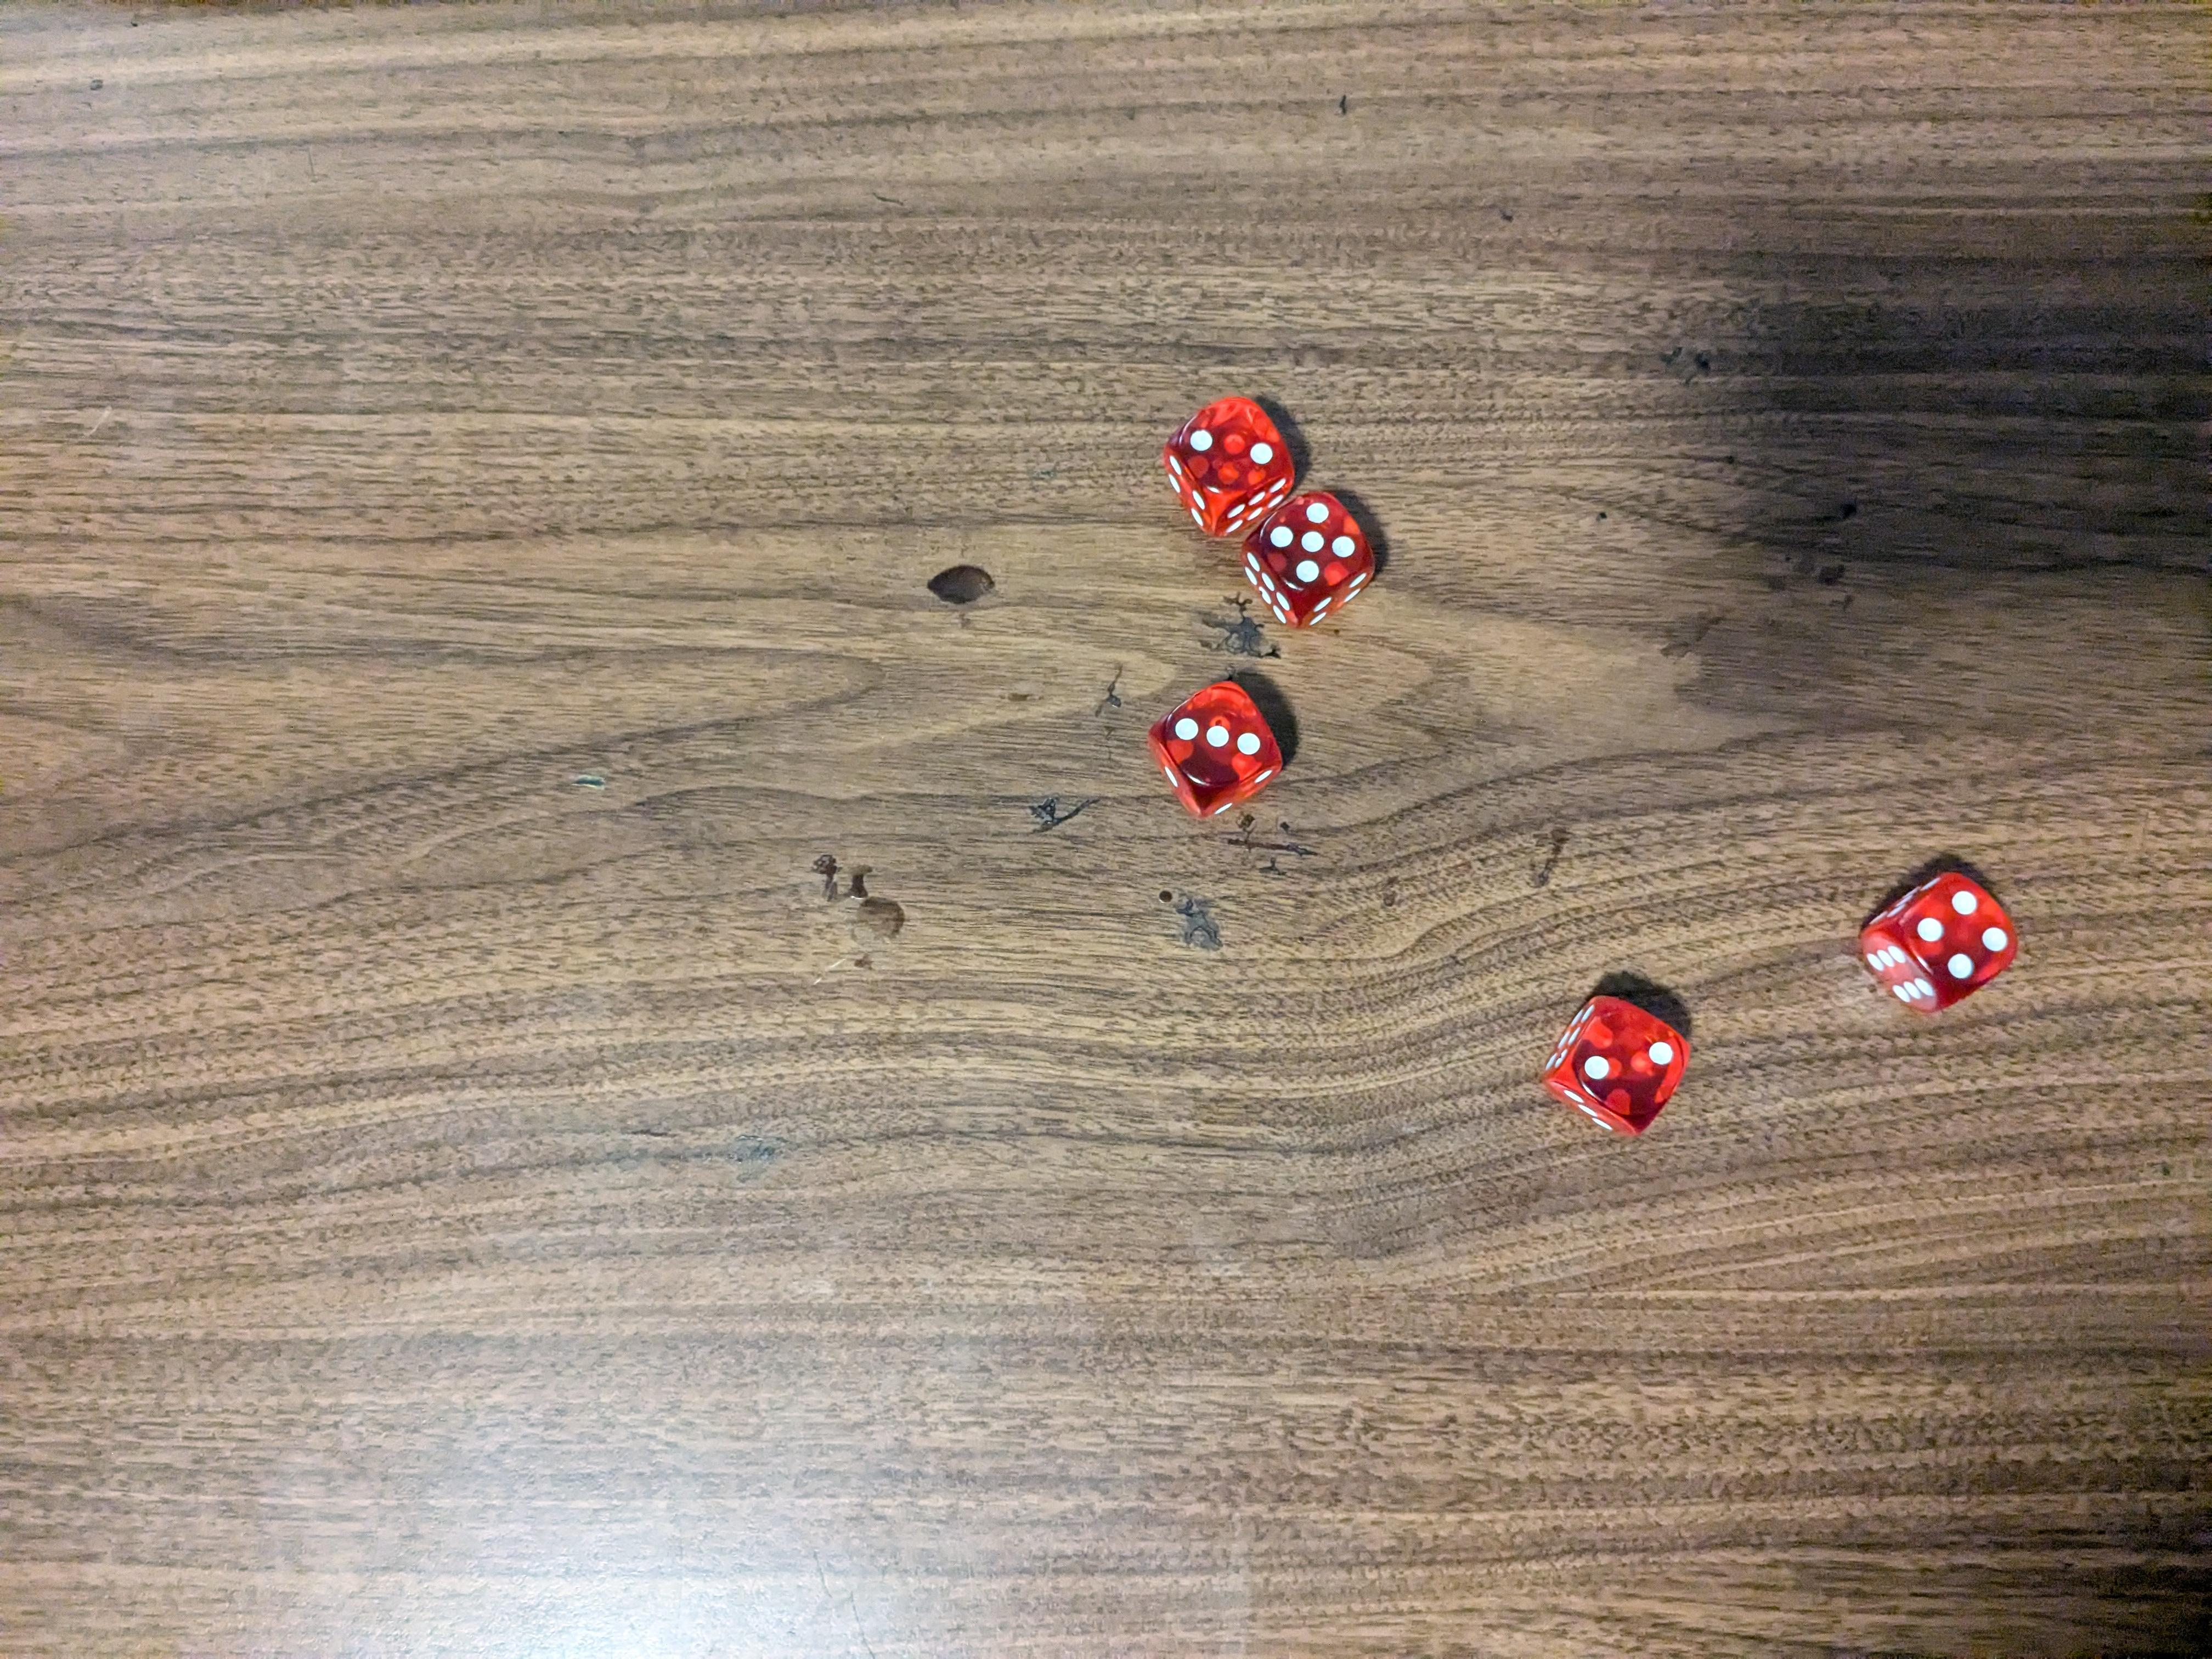five: (1244, 484, 1383, 634)
four: (1862, 866, 2027, 1014)
three: (1150, 674, 1287, 819)
two: (1545, 990, 1689, 1138), (1160, 390, 1296, 540)
